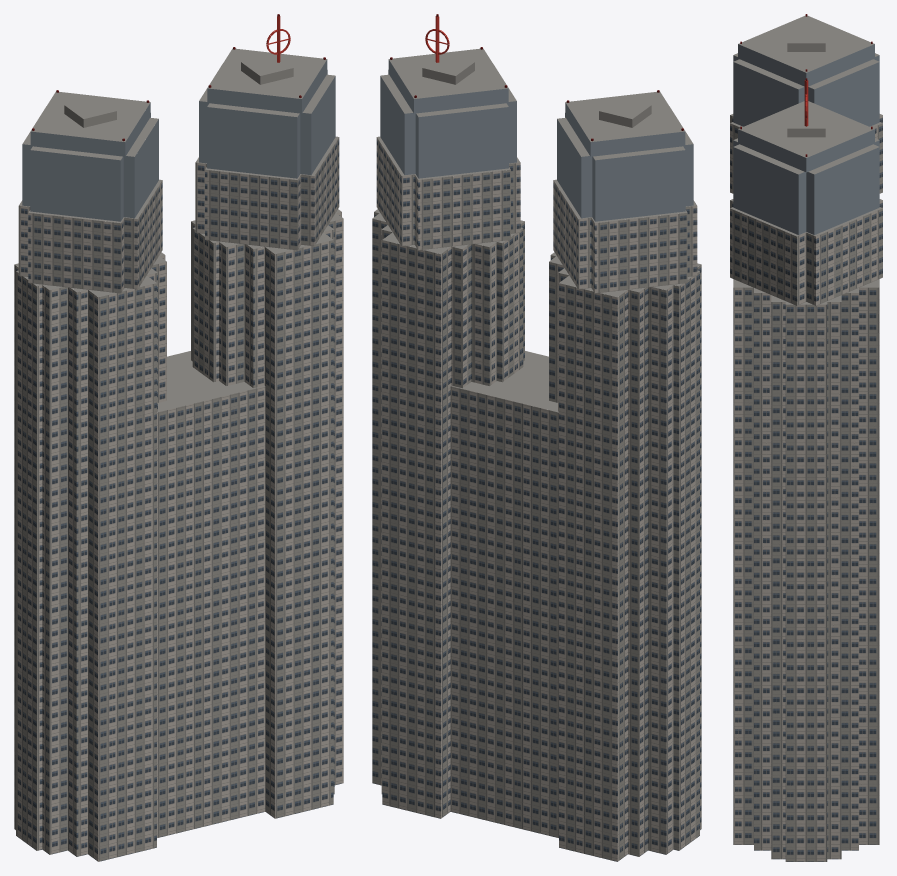
Rendered from tokyo_tocho.glb.
3 renders of one model, left to right at view 1: azimuth 30°, elevation 25°; view 2: azimuth 150°, elevation 25°; view 3: azimuth 270°, elevation 25°, orthographic.
Visible parts, largest first — view 1: TokyoTocho_Near; view 2: TokyoTocho_Near; view 3: TokyoTocho_Near.
Part boxes in pixels (box(x1,y1,x2,y2)): TokyoTocho_Near: box(14, 14, 343, 861); TokyoTocho_Near: box(372, 14, 701, 861); TokyoTocho_Near: box(730, 14, 882, 861).
Size of the model in its own units: 111 by 262 by 48.
Materials: 5 (1 with a texture image).
